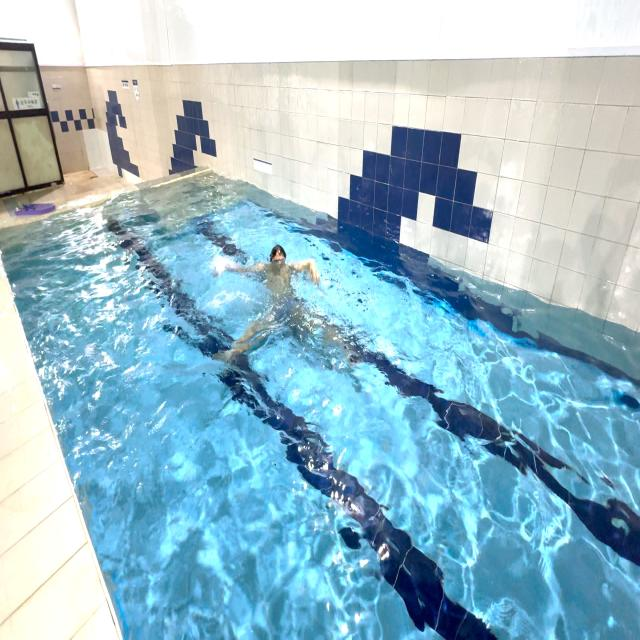Drowning: (210, 224, 350, 376)
